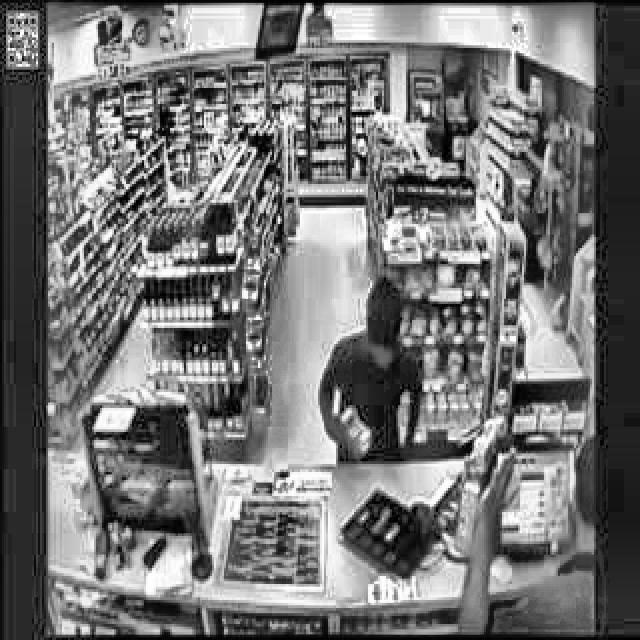robbery: (455, 433, 593, 632), (315, 273, 427, 465)
